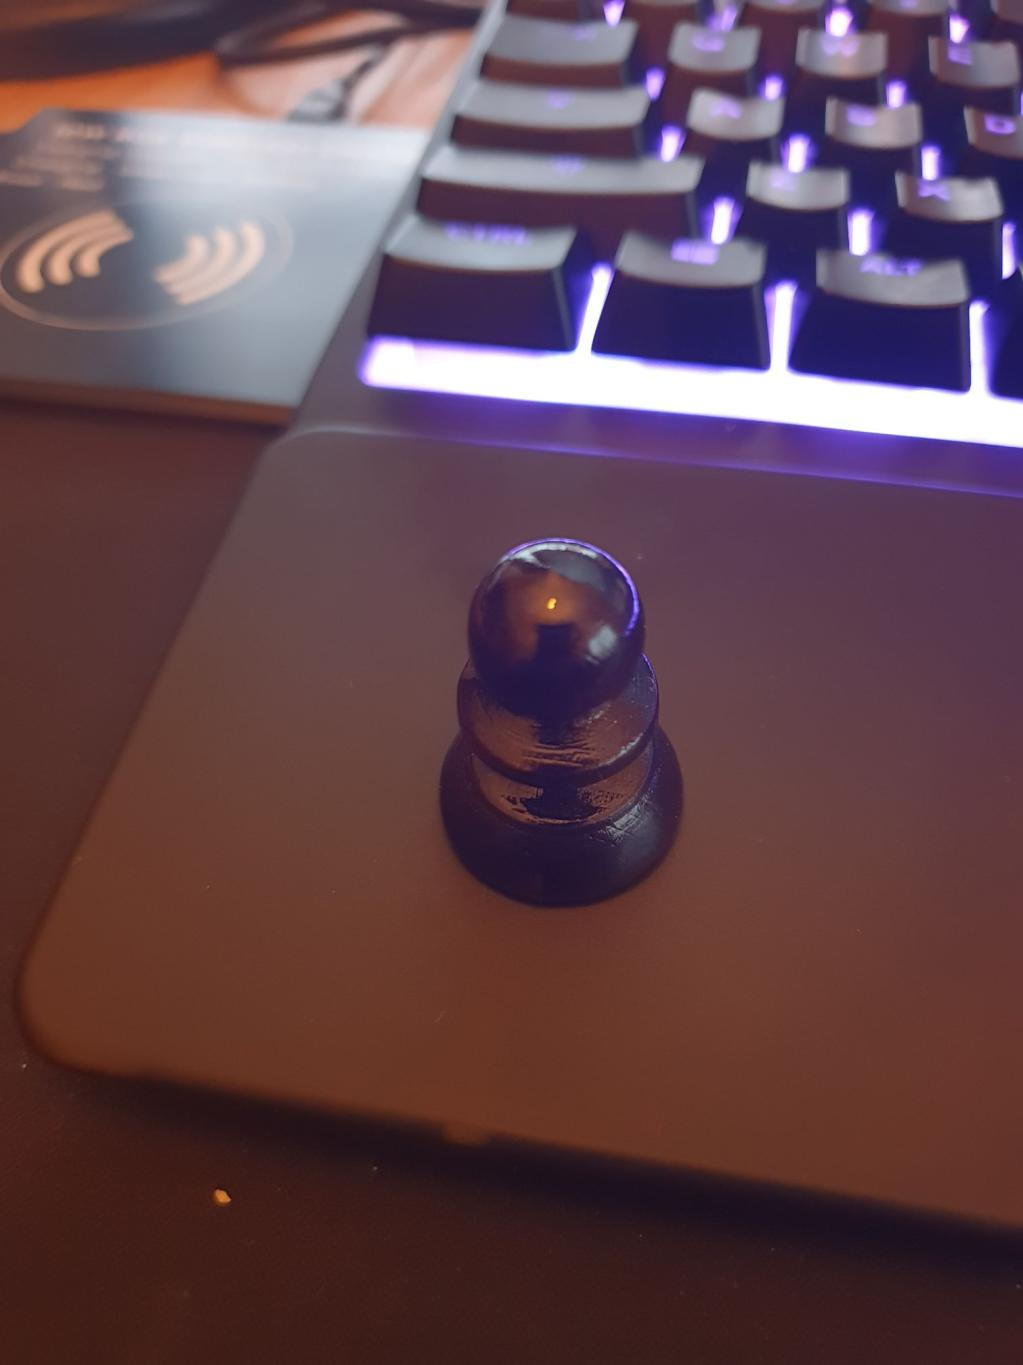bpawn: (440, 537, 685, 911)
